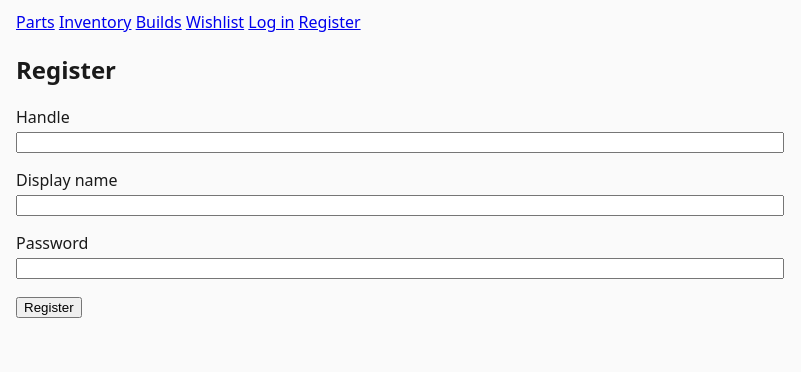
Test: Register page › shows the handle message and sends nothing for a handle with an upper-case letter
Type "Moi" into the field labelled "Handle" at (400, 142), box [16,132,784,153]
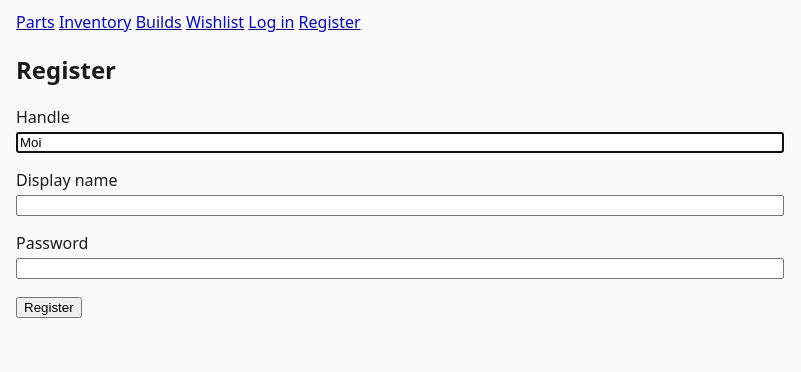
Type "mot-de-passe-test" into the password field labelled "Password" at (400, 268), box [16,258,784,279]
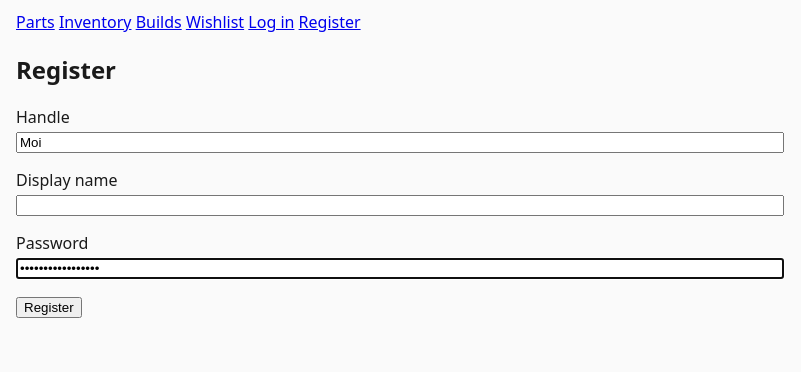
Click the button "Register" at (49, 307), box [16,297,82,318]
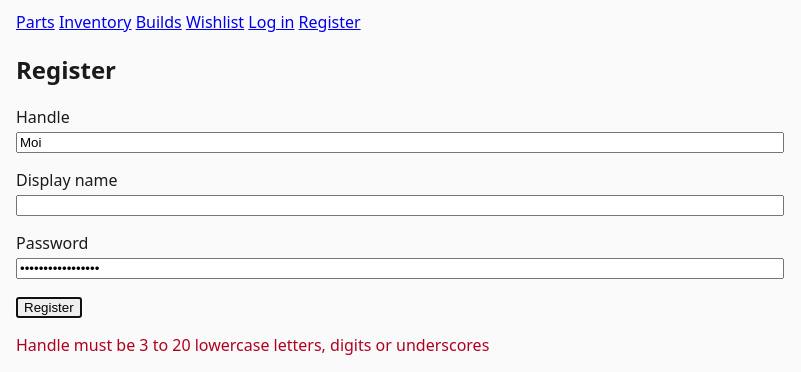
Expected: the heading "Register" is shown, [16,53,116,86]
Result: the message reads "Handle must be 3 to 20 lowercase letters, digits or underscores" at [16,334,489,356]
